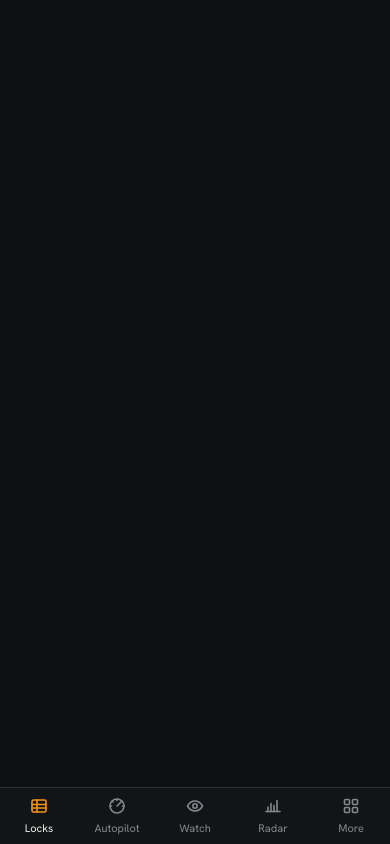
MobileNav › closes on swipe-down
The width and height of the screenshot is (390, 844).
Click the button "More" at (351, 816), box [312,788,389,843]
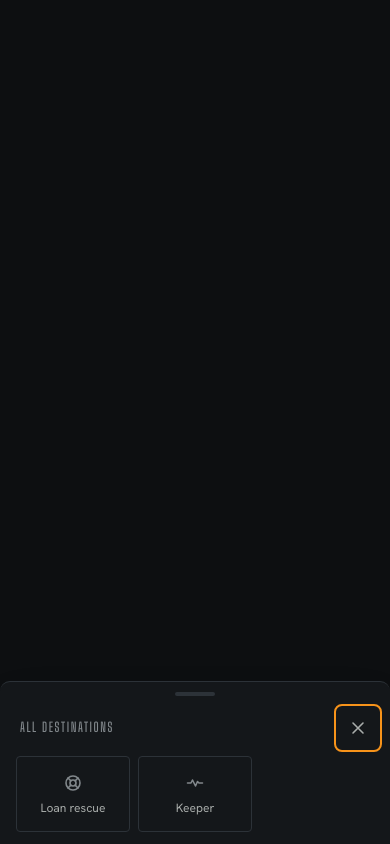
Press the mouse on the dialog at (195, 762), box [0,681,389,843]
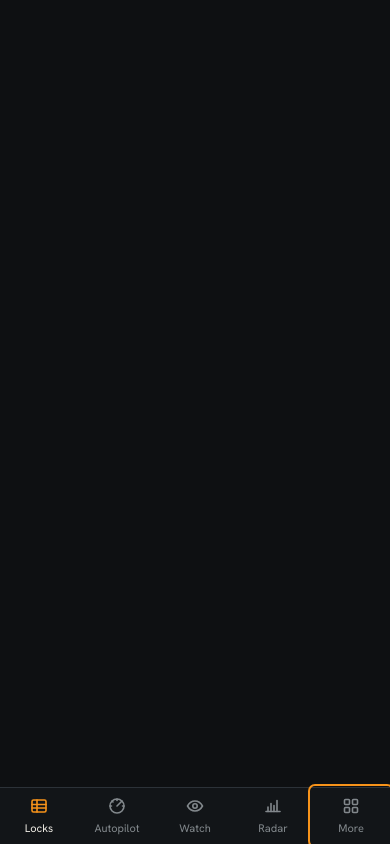
expect the button "More" is collapsed: met, box [312,788,389,843]
